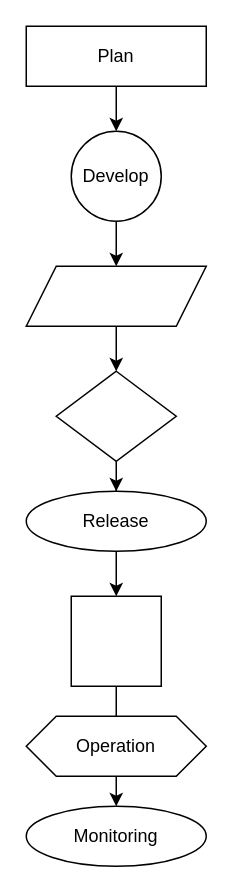
This 233x893 diagram has some shape labels left out. Here are the shapes that lost their labels. From the top down, the box of each, then its label:
(25, 265, 206, 326): Build
(55, 370, 176, 461): Test
(70, 595, 161, 686): Deploy
